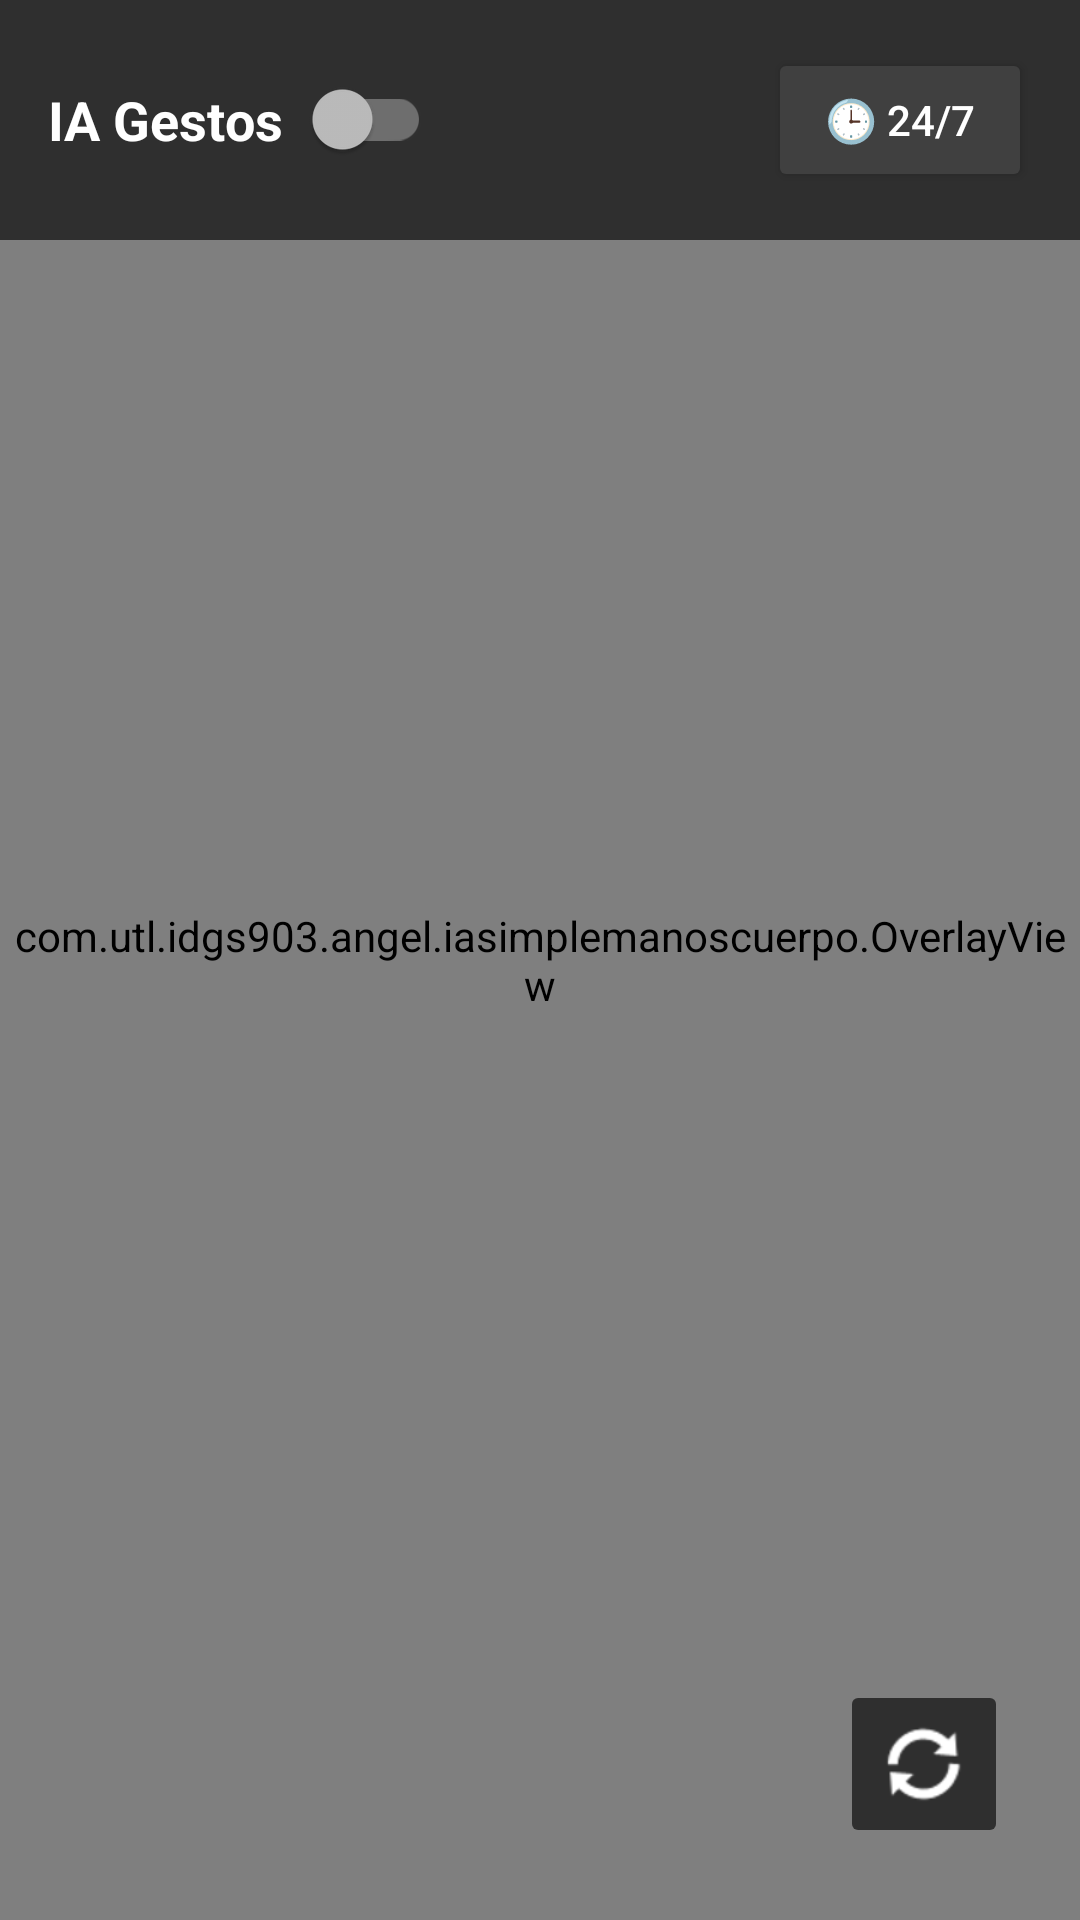

Screen size 1080 × 1920. Icon name, then its box in pixels as (x1, y1, x2, y2):
popup sync: (852, 1698, 996, 1830)
